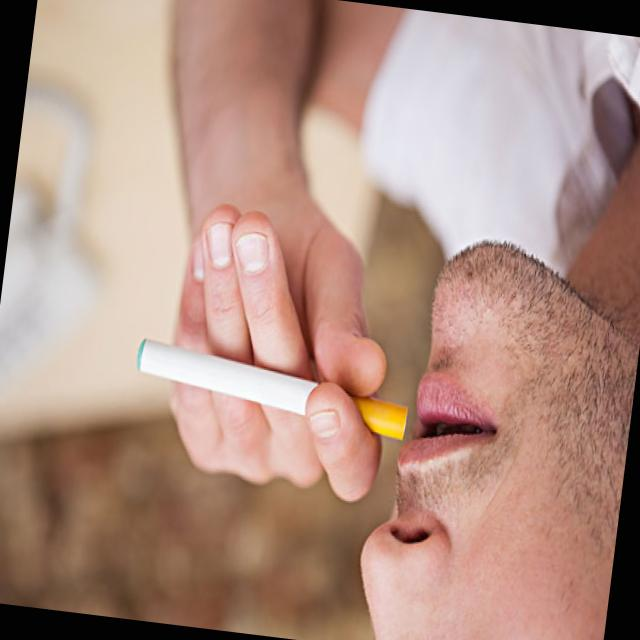cigarette: (136, 332, 316, 425)
